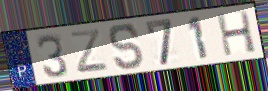1: (187, 15, 211, 60)
3: (36, 32, 69, 79)
7: (143, 16, 175, 68)
H: (214, 9, 258, 58)
S: (107, 22, 146, 72)
Z: (68, 27, 111, 75)
